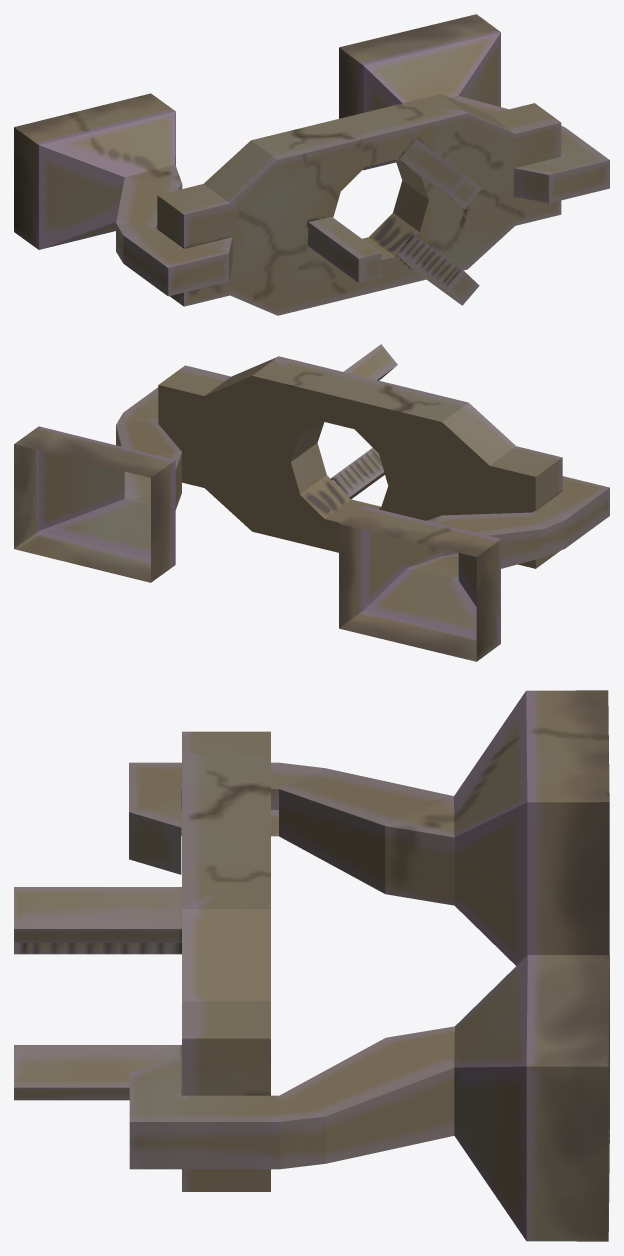
File: TimedGate.obj
3 renders of one model, top to bottom at view 1: azimuth 30°, elevation 25°; view 2: azimuth 150°, elevation 25°; view 3: azimuth 270°, elevation 25°, orthographic. The views are drawn at different scales.
Parts seen in each view (by area): view 1: Cube; view 2: Cube; view 3: Cube.
Boxes of the visible parts, <box> form: Cube: <box>14,14,609,315</box>; Cube: <box>14,344,609,661</box>; Cube: <box>14,690,609,1241</box>.
Bounding box in the file's own units: 8.16 × 2.63 × 5.46.
